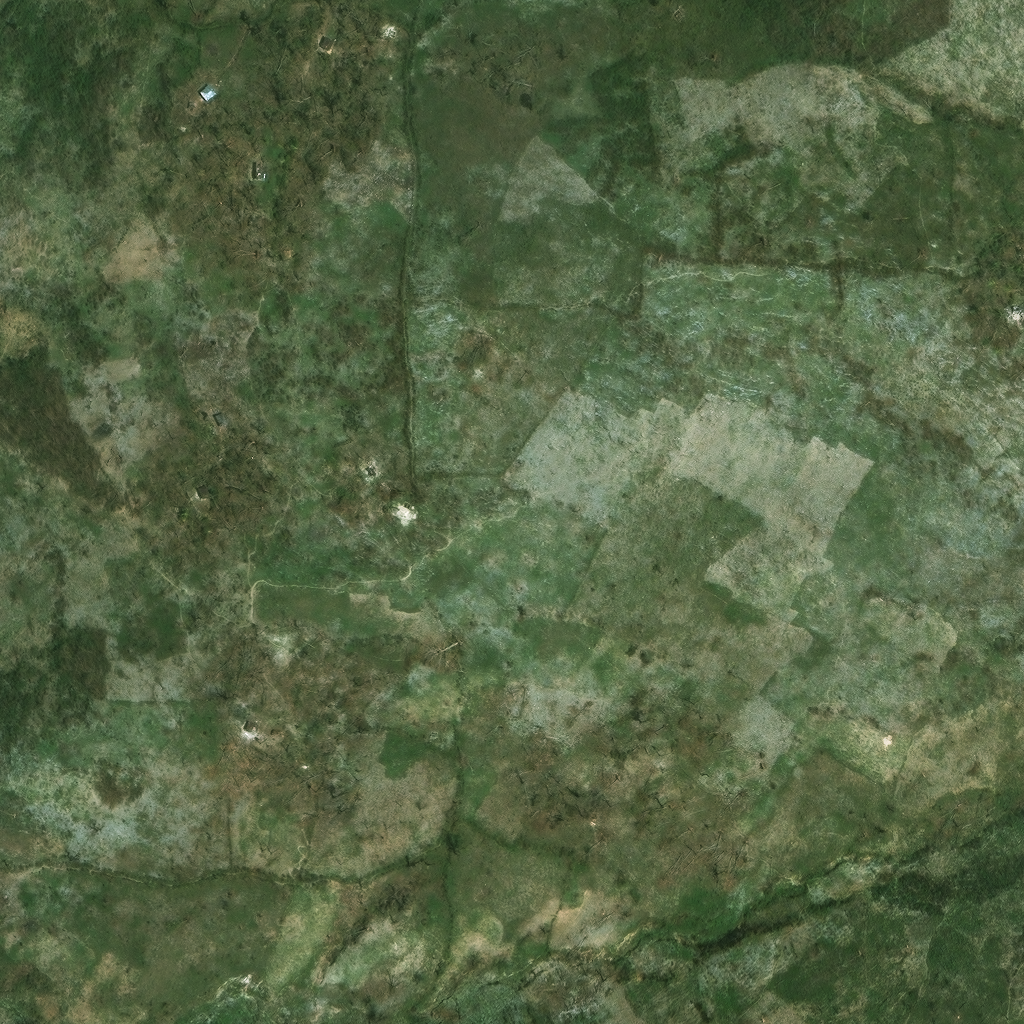destroyed: (494, 329, 513, 348), (319, 453, 338, 472), (357, 462, 374, 482), (229, 767, 249, 779), (420, 908, 434, 921), (1002, 314, 1016, 326), (241, 722, 254, 734), (372, 483, 383, 495)
major_damage: (258, 160, 270, 175)
minor_damage: (218, 407, 236, 424), (196, 485, 211, 500), (330, 31, 342, 46)
